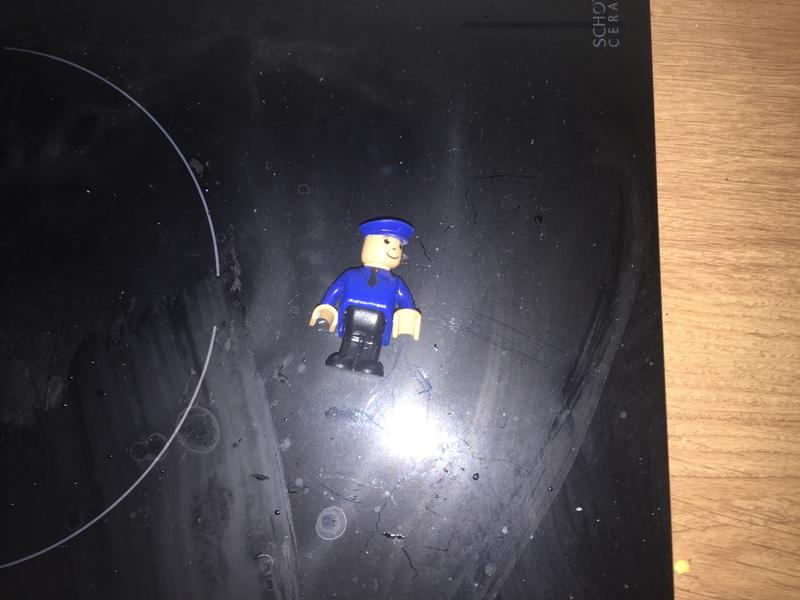person: (308, 208, 432, 386)
